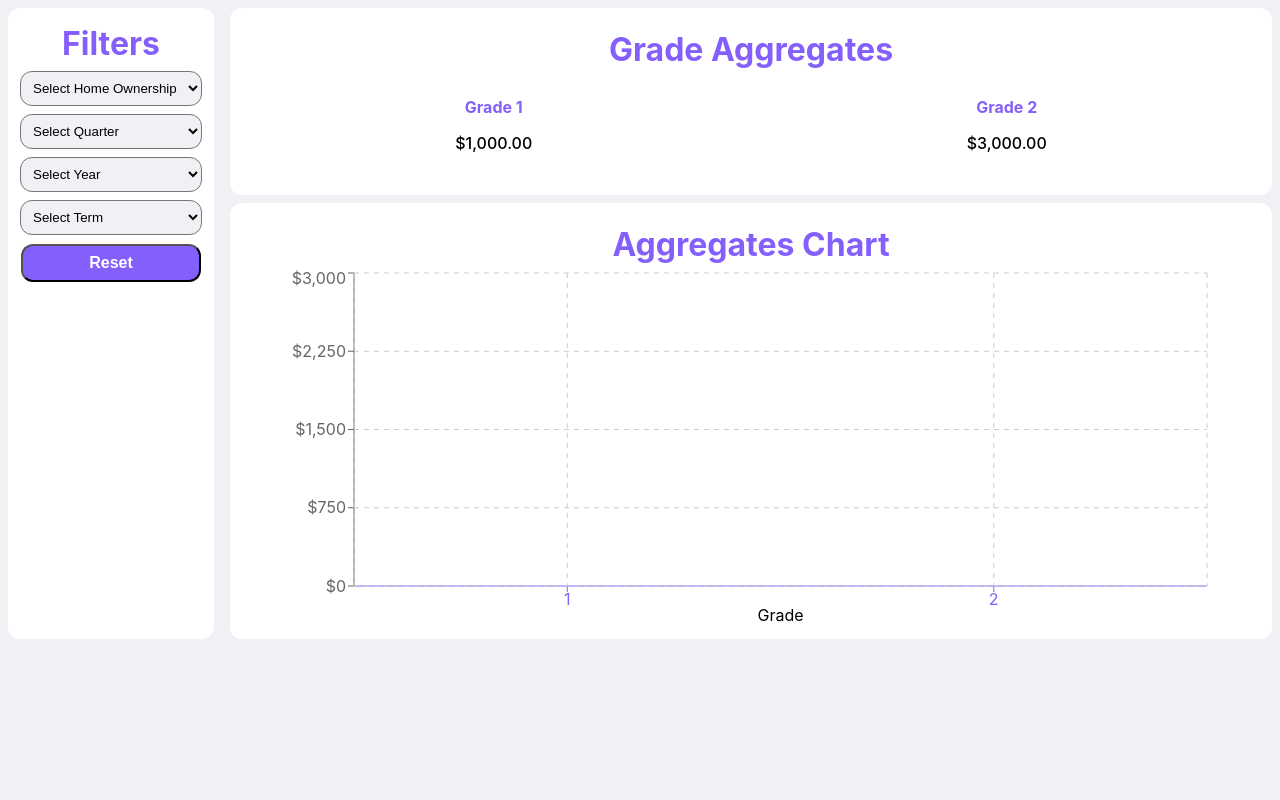
Test: Filter functionality › filters home ownership values
Check: the text "$1,000.00" is shown, box [455, 133, 532, 153]
Check: the text "$3,000.00" is shown, box [967, 133, 1047, 153]
Select "OWN" in the dropdown with test id "select-home-ownership" at (111, 88), box [20, 71, 202, 106]
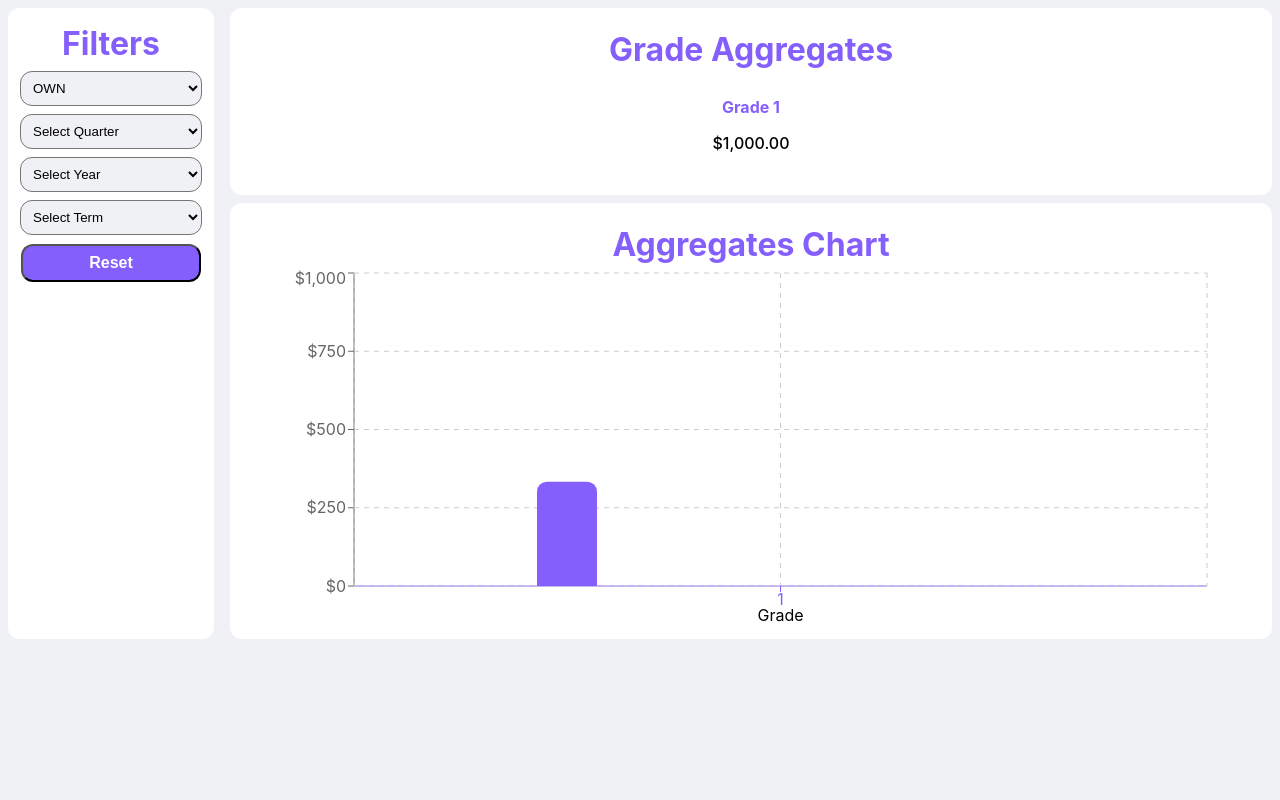
Check: the text "$1,000.00" is shown, box [712, 133, 790, 153]
Check: the text "$3,000.00" is gone
Select "RENT" in the dropdown with test id "select-home-ownership" at (111, 88), box [20, 71, 202, 106]
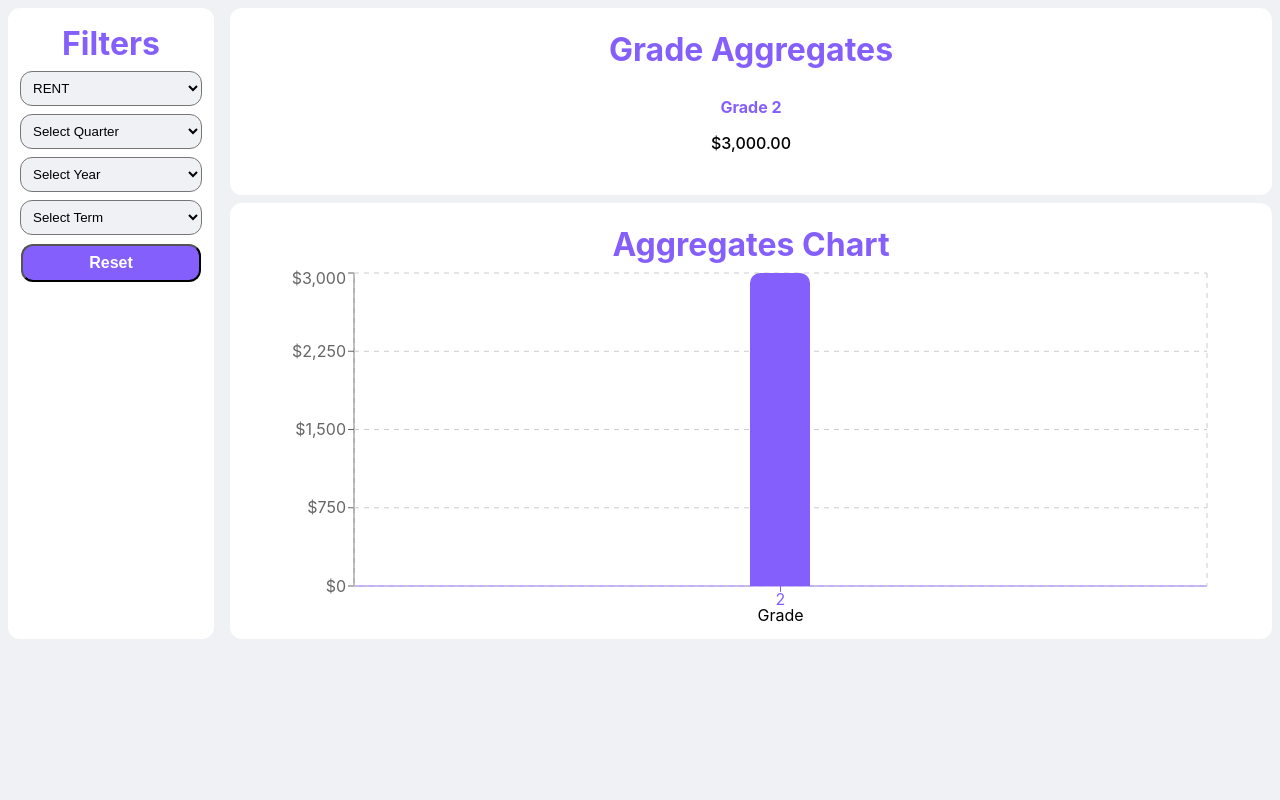
Check: the text "$3,000.00" is shown, box [711, 133, 791, 153]
Check: the text "$1,000.00" is gone
